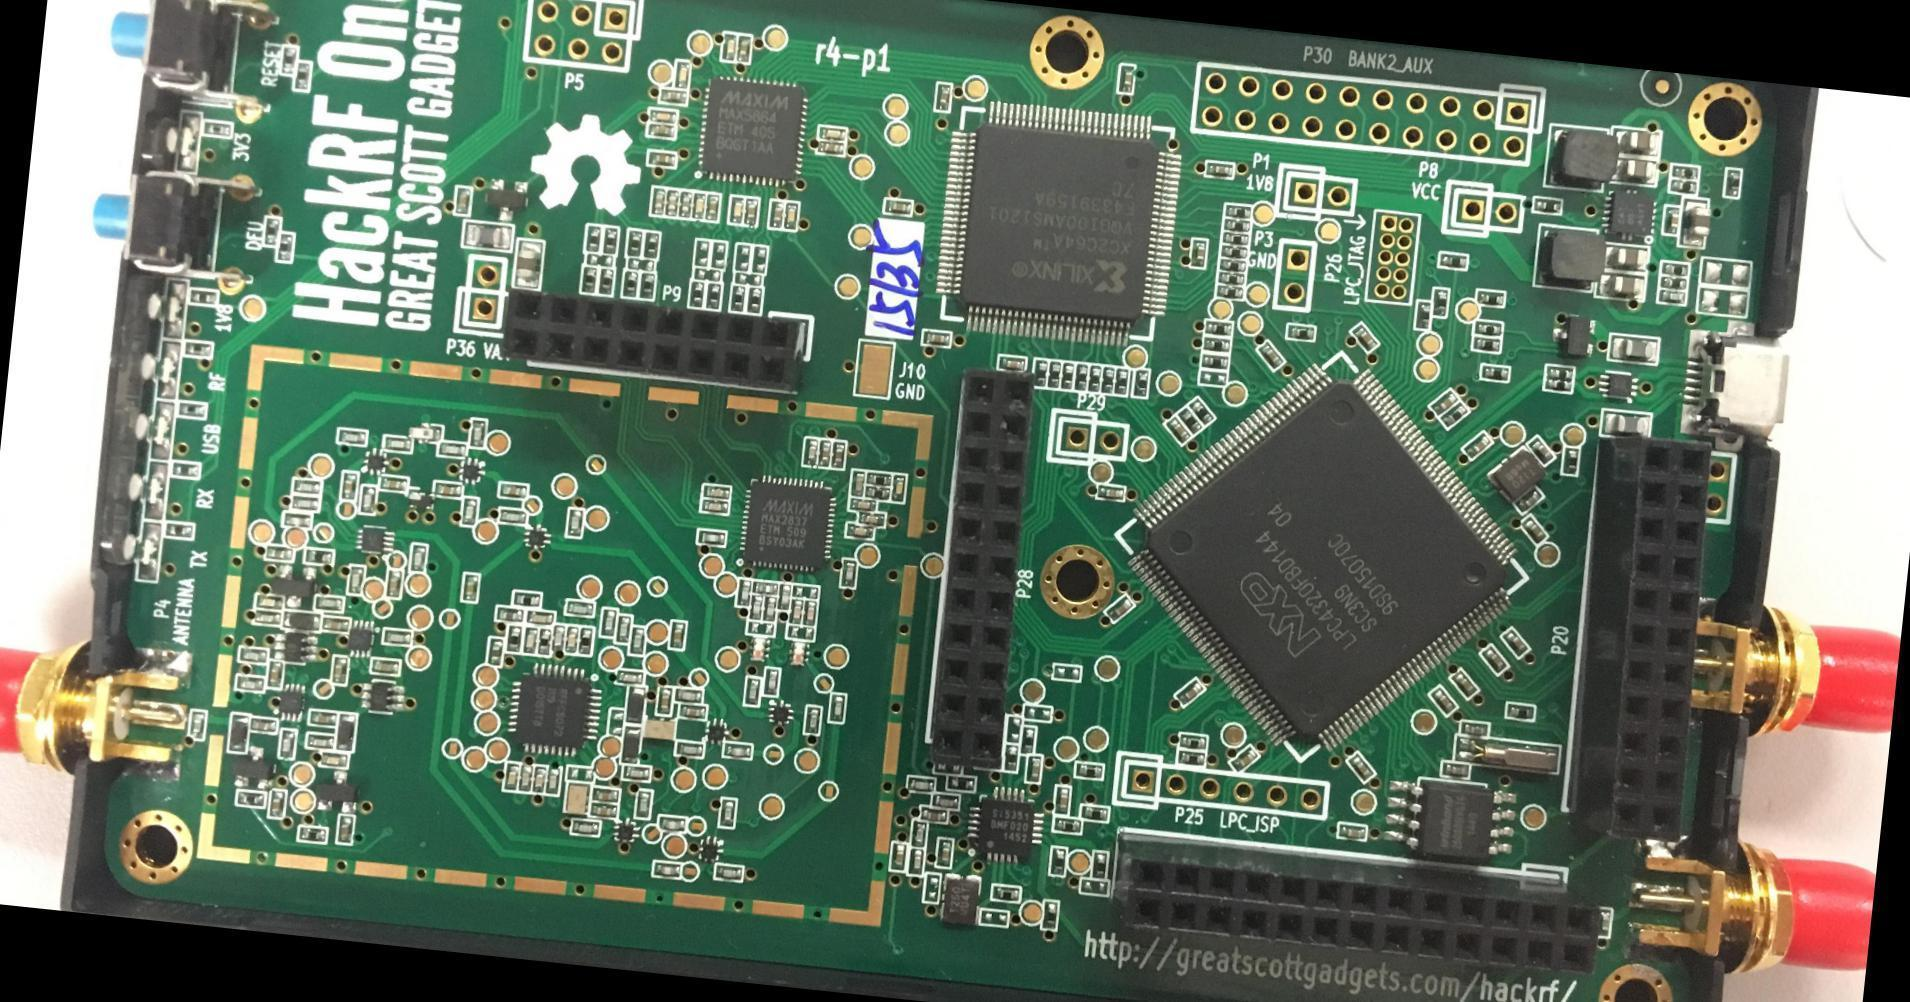Button: (85, 164, 227, 279), (102, 0, 248, 107)
Capacitor: (1607, 331, 1661, 365), (1679, 198, 1712, 251), (513, 238, 545, 291), (1612, 157, 1660, 189), (1602, 243, 1650, 276), (1612, 127, 1663, 158), (1595, 273, 1646, 303), (1599, 409, 1651, 438), (1477, 643, 1512, 678), (1447, 667, 1482, 702), (1343, 749, 1378, 785), (1254, 338, 1287, 371), (1502, 626, 1532, 660), (1429, 685, 1460, 717), (1175, 679, 1205, 708), (1519, 516, 1548, 546), (1350, 323, 1379, 352), (645, 148, 678, 170), (1106, 595, 1133, 623), (1431, 389, 1459, 416), (1189, 235, 1209, 269), (918, 328, 952, 349), (1166, 417, 1191, 443), (1232, 746, 1256, 773), (461, 571, 481, 604), (1335, 821, 1368, 842), (1116, 63, 1136, 96), (1662, 203, 1682, 236), (882, 197, 914, 217), (888, 840, 908, 872), (1465, 433, 1492, 457), (369, 658, 402, 677), (1052, 784, 1071, 816), (935, 838, 954, 870), (1203, 160, 1236, 180), (767, 199, 786, 231), (644, 122, 678, 140), (782, 199, 800, 232), (699, 482, 730, 500), (432, 480, 464, 499), (331, 654, 350, 686), (453, 184, 473, 216), (340, 470, 359, 501), (266, 788, 285, 819), (1439, 762, 1470, 780), (815, 138, 846, 156), (743, 196, 760, 227), (1025, 753, 1043, 782), (818, 123, 847, 141), (996, 355, 1025, 374), (843, 523, 876, 540), (337, 814, 354, 846), (831, 439, 847, 471), (699, 498, 729, 515), (500, 482, 530, 499), (249, 716, 279, 734), (934, 82, 951, 112), (647, 108, 677, 125), (319, 751, 348, 770), (890, 473, 907, 504), (850, 468, 866, 499), (564, 623, 580, 655), (531, 765, 547, 796), (728, 195, 744, 226), (668, 620, 686, 650), (656, 686, 673, 715), (659, 88, 689, 106), (857, 510, 887, 527), (387, 569, 403, 599), (503, 762, 519, 792), (720, 33, 736, 63), (679, 702, 707, 720), (267, 661, 284, 689), (674, 58, 692, 86), (736, 31, 751, 63), (1098, 483, 1124, 501), (381, 476, 408, 494), (706, 192, 721, 223), (920, 807, 947, 824), (1461, 721, 1488, 738), (310, 711, 336, 728), (594, 787, 620, 803), (848, 497, 876, 512), (321, 616, 349, 632), (691, 191, 706, 219), (818, 438, 833, 469), (591, 805, 617, 820), (804, 601, 817, 625), (791, 600, 804, 625)
Connector: (1108, 827, 1606, 976), (1561, 433, 1714, 841), (922, 370, 1034, 770), (1621, 835, 1877, 991), (1189, 60, 1536, 167), (1684, 596, 1902, 755), (500, 289, 810, 396), (0, 632, 193, 782), (1678, 325, 1793, 446), (1120, 761, 1330, 821), (521, 0, 635, 72), (1363, 210, 1421, 306), (1452, 187, 1528, 235), (1054, 415, 1131, 462), (1282, 170, 1358, 217), (1271, 236, 1317, 312), (464, 254, 507, 330), (1704, 449, 1740, 527)
IC: (1097, 329, 1554, 788), (939, 103, 1175, 339), (696, 70, 813, 186), (1382, 774, 1520, 867), (737, 473, 836, 574), (506, 660, 604, 761), (965, 787, 1046, 866), (1600, 187, 1657, 242), (1492, 447, 1547, 501), (941, 873, 981, 926), (359, 677, 407, 716), (274, 631, 317, 667), (1596, 368, 1640, 401), (355, 525, 394, 556), (278, 683, 306, 722), (349, 623, 377, 660), (767, 699, 795, 726), (523, 525, 550, 551), (459, 459, 485, 484), (697, 837, 724, 862), (703, 718, 728, 745), (612, 821, 639, 844), (362, 448, 388, 473)
Led: (109, 272, 190, 339), (99, 395, 178, 463), (89, 514, 165, 581), (107, 334, 185, 401), (132, 102, 204, 173), (92, 457, 170, 521)
Pads: (1693, 288, 1748, 321), (1698, 256, 1753, 288), (1051, 662, 1083, 684), (1078, 878, 1110, 898), (733, 243, 751, 275), (978, 908, 1009, 928), (692, 236, 711, 268), (583, 251, 616, 269), (732, 271, 765, 287), (923, 872, 941, 903), (751, 243, 769, 274), (1003, 715, 1022, 744), (1022, 704, 1052, 722), (748, 621, 778, 637), (692, 267, 723, 283), (625, 257, 657, 272), (711, 240, 728, 268), (787, 625, 815, 641)
Resistor: (1476, 362, 1511, 384), (1130, 365, 1152, 400), (1052, 814, 1084, 837), (235, 789, 268, 810), (186, 287, 218, 308), (1504, 702, 1538, 723), (1723, 167, 1743, 201), (1073, 761, 1104, 782), (175, 399, 209, 420), (1078, 804, 1110, 824), (623, 228, 643, 260), (1041, 899, 1060, 932), (169, 460, 201, 480), (990, 883, 1022, 904), (262, 215, 282, 247), (182, 339, 213, 359), (1001, 742, 1020, 775), (1048, 844, 1068, 877), (280, 43, 300, 76), (1436, 251, 1469, 271), (277, 231, 295, 264), (163, 522, 194, 541), (1668, 178, 1699, 197), (1531, 196, 1563, 215), (1476, 291, 1507, 310), (1431, 287, 1450, 319), (1473, 320, 1505, 339), (642, 230, 661, 261), (1285, 323, 1316, 342), (537, 626, 554, 658), (293, 60, 311, 92), (638, 269, 656, 302), (303, 548, 334, 567), (297, 826, 327, 845), (1203, 319, 1233, 337), (1201, 335, 1232, 354), (1197, 368, 1228, 387), (1179, 733, 1207, 753), (578, 624, 596, 656), (945, 774, 976, 792), (602, 225, 620, 256), (1471, 337, 1502, 355), (1199, 353, 1230, 370), (578, 265, 598, 295), (746, 286, 765, 315), (1072, 360, 1089, 393), (512, 591, 542, 609), (1176, 750, 1206, 768), (1671, 163, 1701, 181), (1415, 301, 1432, 331), (621, 269, 639, 300), (597, 269, 615, 299), (729, 284, 747, 315), (1113, 366, 1130, 397), (1020, 726, 1038, 754), (1562, 448, 1581, 476), (1217, 257, 1248, 273), (1032, 358, 1048, 389), (931, 761, 965, 776), (1181, 410, 1202, 433), (706, 282, 724, 311), (204, 121, 234, 138), (1220, 230, 1250, 246), (1087, 365, 1103, 395), (1091, 852, 1109, 880), (687, 280, 705, 308), (1443, 406, 1466, 426), (1214, 284, 1245, 300), (1047, 359, 1063, 390), (1191, 403, 1213, 425), (1219, 245, 1249, 260), (1216, 270, 1247, 285), (586, 224, 603, 252), (1226, 202, 1252, 220), (506, 625, 523, 652), (1547, 364, 1574, 380), (1661, 261, 1689, 277), (1660, 275, 1688, 291), (1101, 365, 1115, 395), (1060, 363, 1075, 390), (1546, 378, 1572, 394), (1223, 218, 1251, 232), (865, 485, 891, 501), (869, 472, 893, 487)
Transistor: (267, 564, 318, 611), (231, 744, 276, 792), (485, 177, 530, 223), (1553, 314, 1597, 359), (314, 770, 359, 813)
